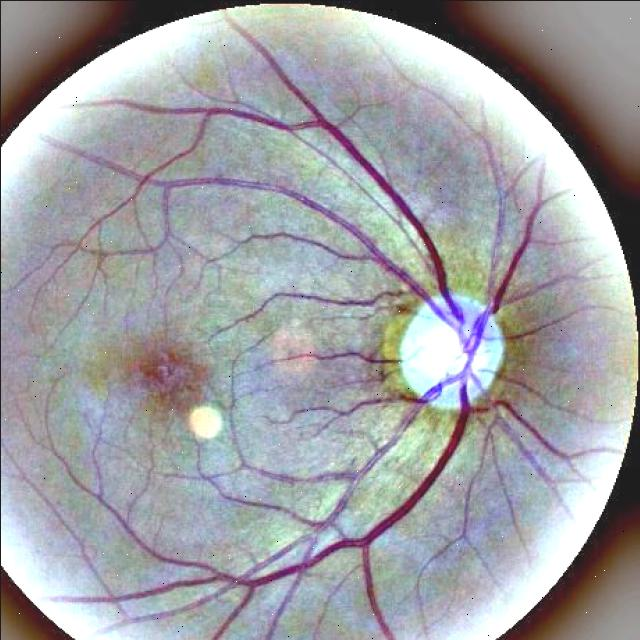Macula: (110, 296, 240, 422)
Nerves: (86, 37, 469, 329), (277, 196, 546, 575)
Optic Disk: (374, 269, 539, 424)
